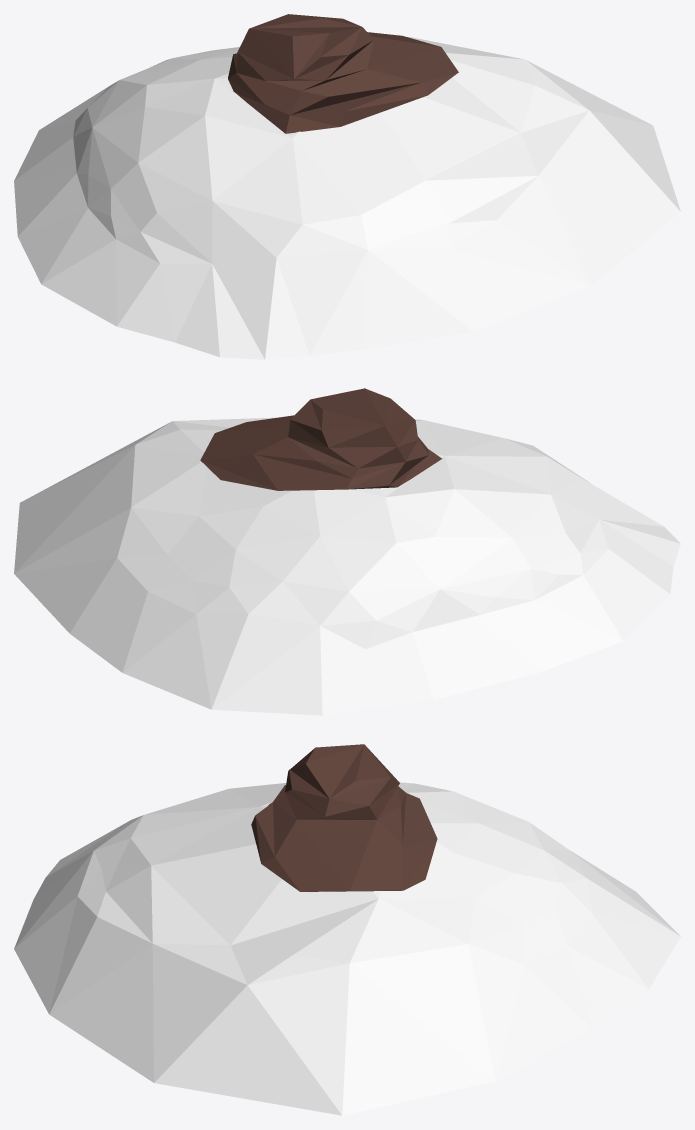
The model's file is snow_rock_013.fbx.
3 views of the same model, one above another, from view 1: azimuth 30°, elevation 25°; view 2: azimuth 150°, elevation 25°; view 3: azimuth 270°, elevation 25° (orthographic). The views are drawn at different scales.
Visible parts, largest first — view 1: snow_rock_013; view 2: snow_rock_013; view 3: snow_rock_013.
Boxes of the visible parts, bbox=[...] form: snow_rock_013: bbox=[14, 14, 680, 359]; snow_rock_013: bbox=[14, 388, 680, 715]; snow_rock_013: bbox=[14, 744, 680, 1115].
Bounding box in the file's own units: 1153 × 1085 × 338.
